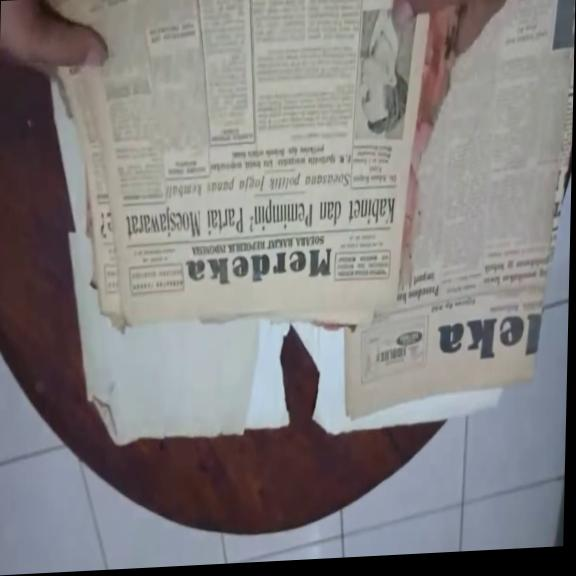Kertas: (46, 27, 407, 344), (343, 20, 542, 398)
